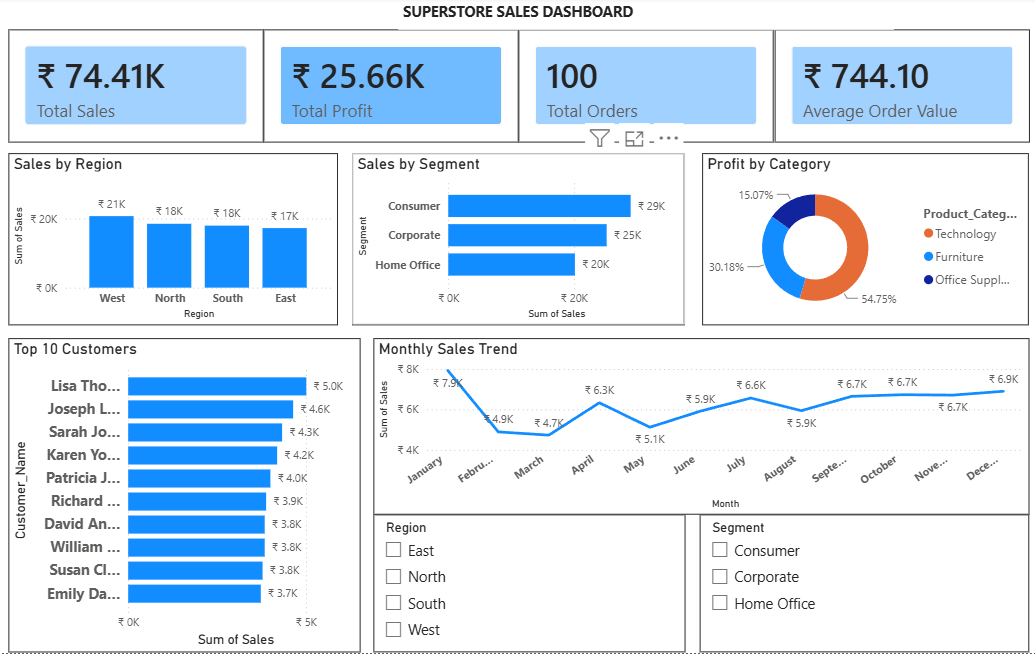

The page's visual inventory and layout, read from the dashboard file:
{"tool":"powerbi","page":{"name":"Page 1","canvas":[1280,720],"ordinal":0},"visuals":[{"type":"cardVisual","fields":{"Data":["Sum(o (4).Profit)"]},"box":[293.8,36.2,280,123.8],"z":1000},{"type":"cardVisual","fields":{"Data":["CountNonNull(o (4).Order_ID)"]},"box":[573.8,36.2,280,123.8],"z":2000},{"type":"cardVisual","fields":{"Data":["o (4).Average Order Value"]},"box":[855,36.2,280,123.8],"z":3000},{"type":"clusteredColumnChart","title":"Sales by Region","fields":{"Category":["o (4).Region"],"Y":["Sum(o (4).Sales)"]},"box":[13.8,171.2,361.2,188.8],"z":4000},{"type":"clusteredBarChart","title":"Sales by Segment","fields":{"Category":["o (4).Segment"],"Y":["Sum(o (4).Sales)"]},"box":[391.2,171.2,365,188.8],"z":5000},{"type":"donutChart","title":"Profit by Category","fields":{"Category":["o (4).Product_Category"],"Y":["Sum(o (4).Profit)"]},"box":[775,171.2,358.8,188.8],"z":6000},{"type":"lineChart","title":" Monthly Sales Trend","fields":{"Category":["o (4).Order_Date.Variation.Date Hierarchy.Month"],"Y":["Sum(o (4).Sales)"]},"box":[415,375,720,193.8],"z":7000},{"type":"clusteredBarChart","title":"Top 10 Customers","fields":{"Category":["o (4).Customer_Name"],"Y":["Sum(o (4).Sales)"]},"box":[13.8,375,386.2,345],"z":8000},{"type":"slicer","fields":{"Values":["o (4).Region"]},"box":[413.8,568.8,342.5,151.2],"z":9000},{"type":"slicer","fields":{"Values":["o (4).Segment"]},"box":[772.5,568.8,361.2,151.2],"z":10000},{"type":"textbox","box":[442.5,0,543.8,36.2],"z":11000},{"type":"cardVisual","fields":{"Data":["Sum(o (4).Sales)"]},"box":[13.8,36.2,280,123.8],"z":11001}]}

Visuals, with their boxes on the page's 1280x720 design canvas (x1, y1, x2, y2). These are canvas units, not pixel positions in the 1035x654 screenshot, which may show the page scaled, cropped or inside an application window:
cardVisual - Sum(o (4).Profit): 294/36/574/160
cardVisual - CountNonNull(o (4).Order_ID): 574/36/854/160
cardVisual - o (4).Average Order Value: 855/36/1135/160
"Sales by Region" clusteredColumnChart: 14/171/375/360
"Sales by Segment" clusteredBarChart: 391/171/756/360
"Profit by Category" donutChart: 775/171/1134/360
" Monthly Sales Trend" lineChart: 415/375/1135/569
"Top 10 Customers" clusteredBarChart: 14/375/400/720
slicer - o (4).Region: 414/569/756/720
slicer - o (4).Segment: 772/569/1134/720
textbox: 442/0/986/36
cardVisual - Sum(o (4).Sales): 14/36/294/160
